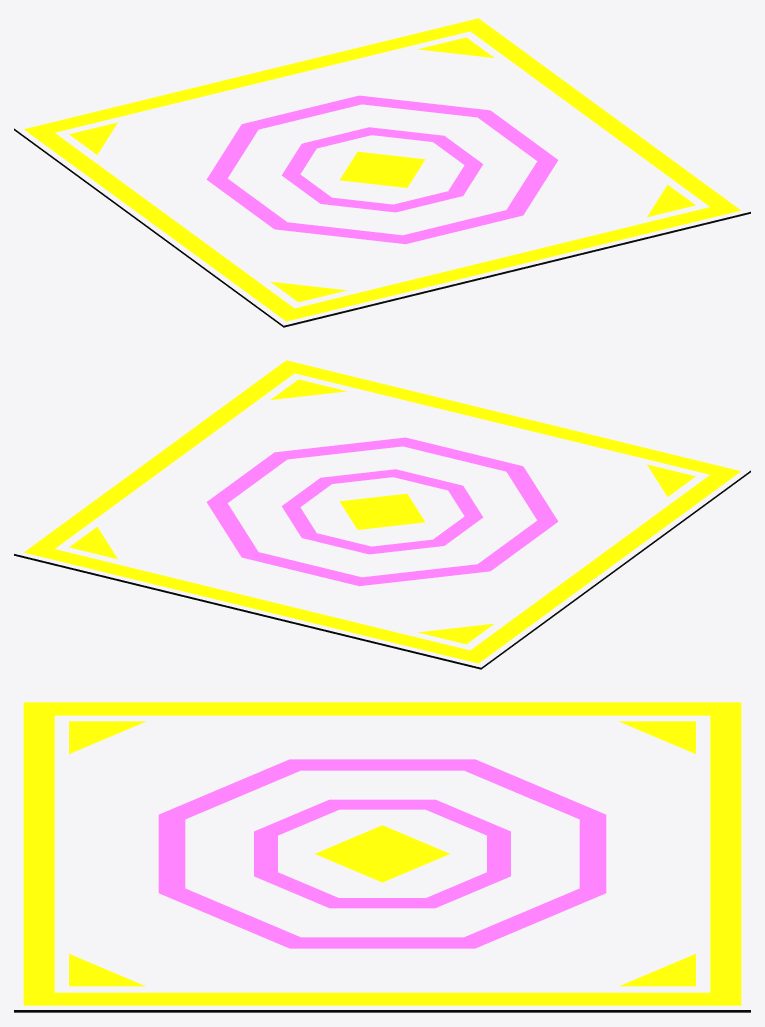
Rendered from OVL_Arena_Warn_Magnetic.glb.
3 views of the same model, one above another, from view 1: azimuth 30°, elevation 25°; view 2: azimuth 150°, elevation 25°; view 3: azimuth 270°, elevation 25° (orthographic). The views are drawn at different scales.
Visible parts, largest first — view 1: OVL_WarnMag_AmberBorder, OVL_WarnMag_PreviewRings, OVL_WarnMag_PreviewAnchor, OVL_Carrier_WarnMagnetic; view 2: OVL_WarnMag_AmberBorder, OVL_WarnMag_PreviewRings, OVL_WarnMag_PreviewAnchor, OVL_Carrier_WarnMagnetic; view 3: OVL_WarnMag_AmberBorder, OVL_WarnMag_PreviewRings, OVL_WarnMag_PreviewAnchor, OVL_Carrier_WarnMagnetic.
Part boxes in pixels (<box>): OVL_WarnMag_AmberBorder: <box>24,18,740,321</box>; OVL_WarnMag_PreviewRings: <box>206,95,558,244</box>; OVL_WarnMag_PreviewAnchor: <box>340,151,425,187</box>; OVL_Carrier_WarnMagnetic: <box>14,128,750,327</box>; OVL_WarnMag_AmberBorder: <box>24,360,740,663</box>; OVL_WarnMag_PreviewRings: <box>206,437,558,586</box>; OVL_WarnMag_PreviewAnchor: <box>339,493,424,529</box>; OVL_Carrier_WarnMagnetic: <box>14,470,750,669</box>; OVL_WarnMag_AmberBorder: <box>23,702,741,1005</box>; OVL_WarnMag_PreviewRings: <box>158,759,606,948</box>; OVL_WarnMag_PreviewAnchor: <box>315,825,449,882</box>; OVL_Carrier_WarnMagnetic: <box>14,1010,750,1012</box>.
Size of the model in its own units: 11.4 by 0.05 by 11.4.
3 materials, 3 textured.
